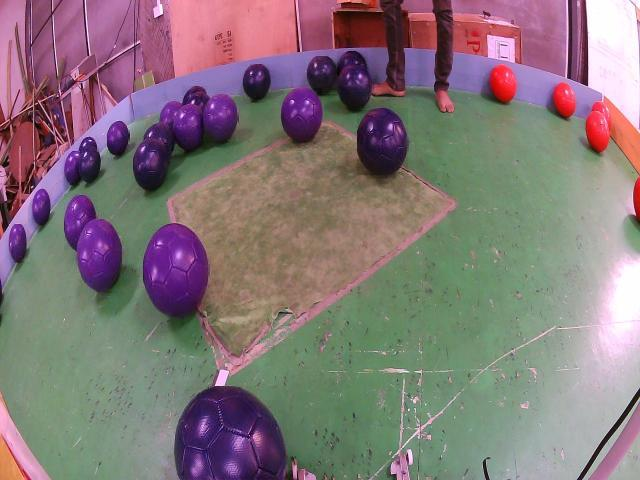jambhalya: (144, 223, 209, 317), (77, 220, 123, 291), (282, 89, 322, 142), (65, 195, 97, 250), (204, 95, 238, 141), (173, 105, 204, 151), (107, 120, 129, 155), (33, 188, 50, 225), (9, 225, 26, 261), (159, 102, 182, 128), (64, 152, 81, 184)
kaalyya: (175, 386, 287, 479), (357, 108, 408, 175), (132, 138, 168, 190), (338, 65, 373, 110), (307, 56, 337, 94), (144, 123, 174, 161), (243, 65, 270, 101), (79, 147, 101, 182), (337, 51, 368, 75), (189, 92, 211, 113), (183, 86, 206, 105), (79, 137, 98, 152)
